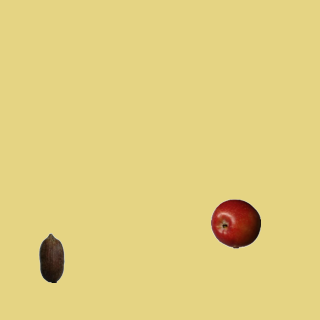Apple Braeburn: (210, 198, 260, 248)
Nut Pecan: (26, 232, 76, 282)
